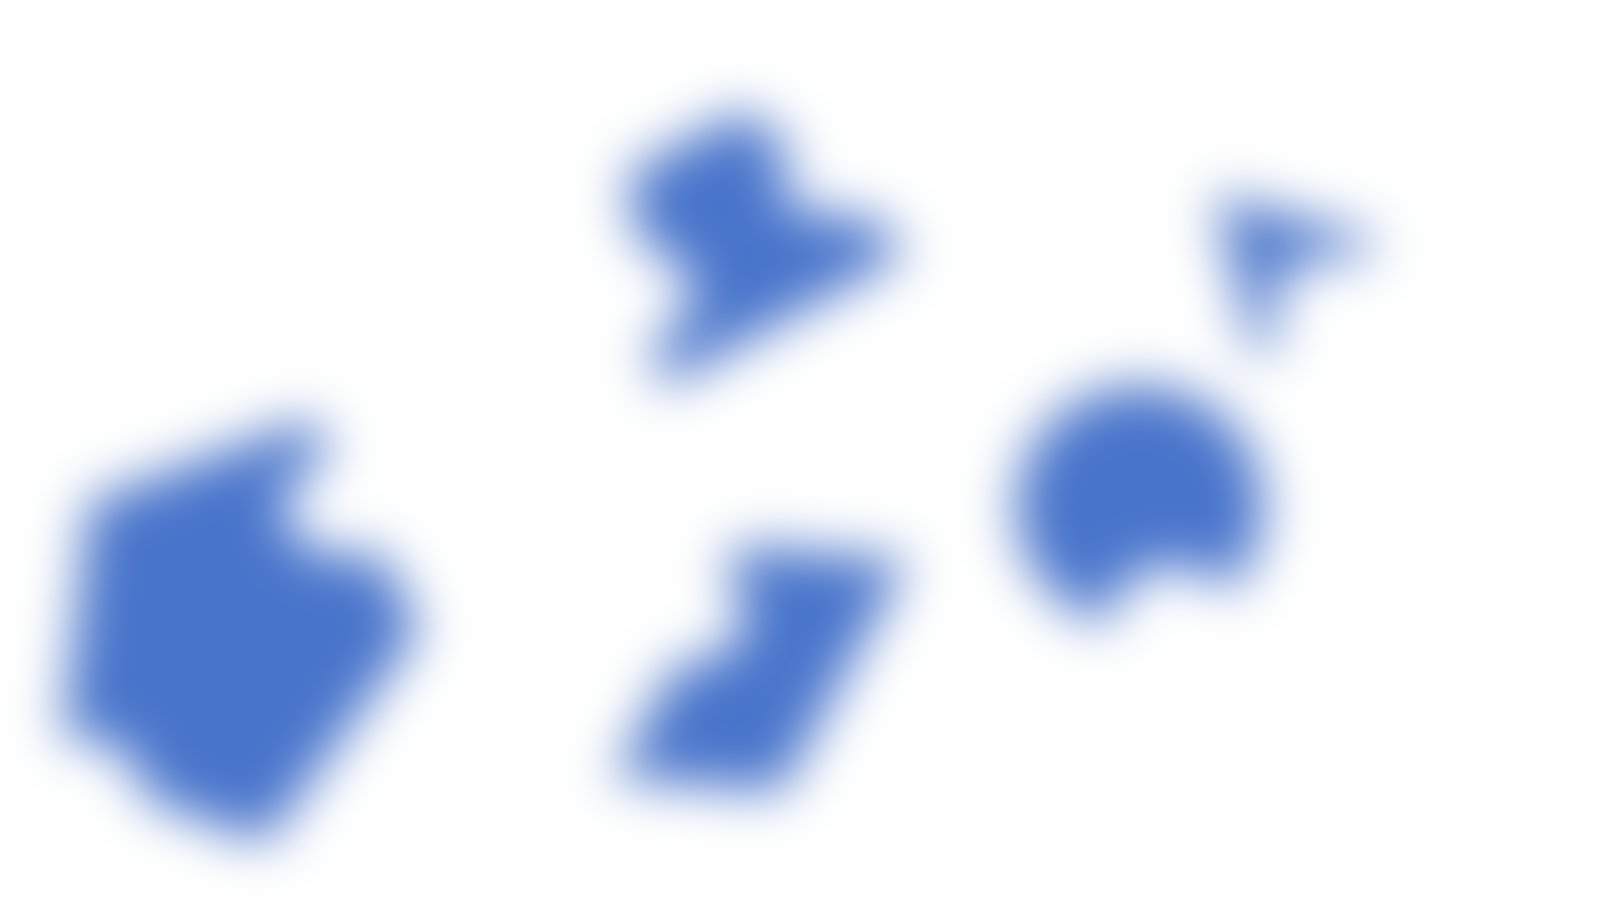circle: (1001, 366, 1280, 633)
parallelogram: (602, 525, 923, 812)
pentagon: (14, 412, 442, 852)
trapezium: (596, 99, 913, 379)
triangle: (1192, 184, 1390, 359)
